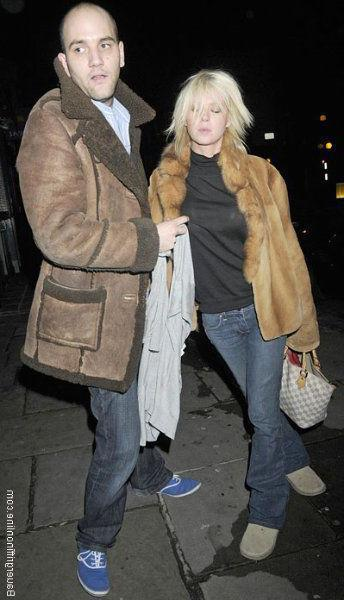Drunk: (65, 12, 120, 100), (184, 85, 228, 142)
